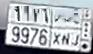6: (38, 7, 49, 46)
7: (31, 8, 39, 45)
9: (20, 5, 30, 44), (12, 5, 21, 43)
J: (71, 14, 80, 48)
N: (63, 13, 71, 48)
X: (52, 14, 61, 47)
